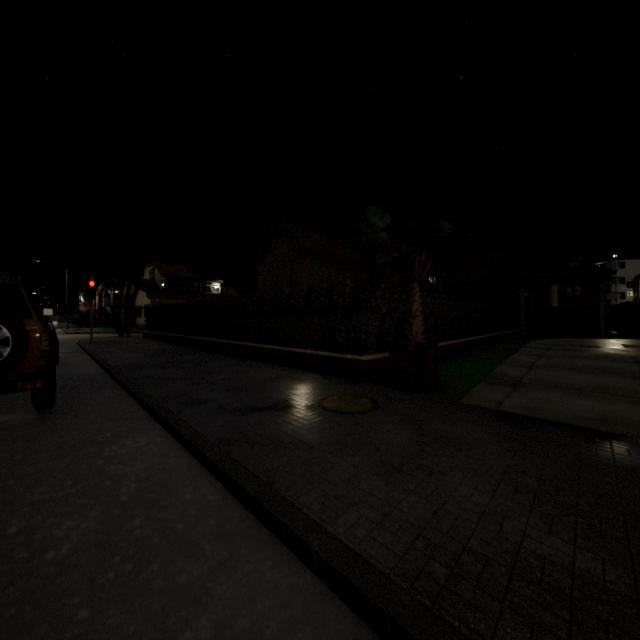Vehicle: (0, 272, 58, 410)
traffic_light: (88, 280, 96, 300)
